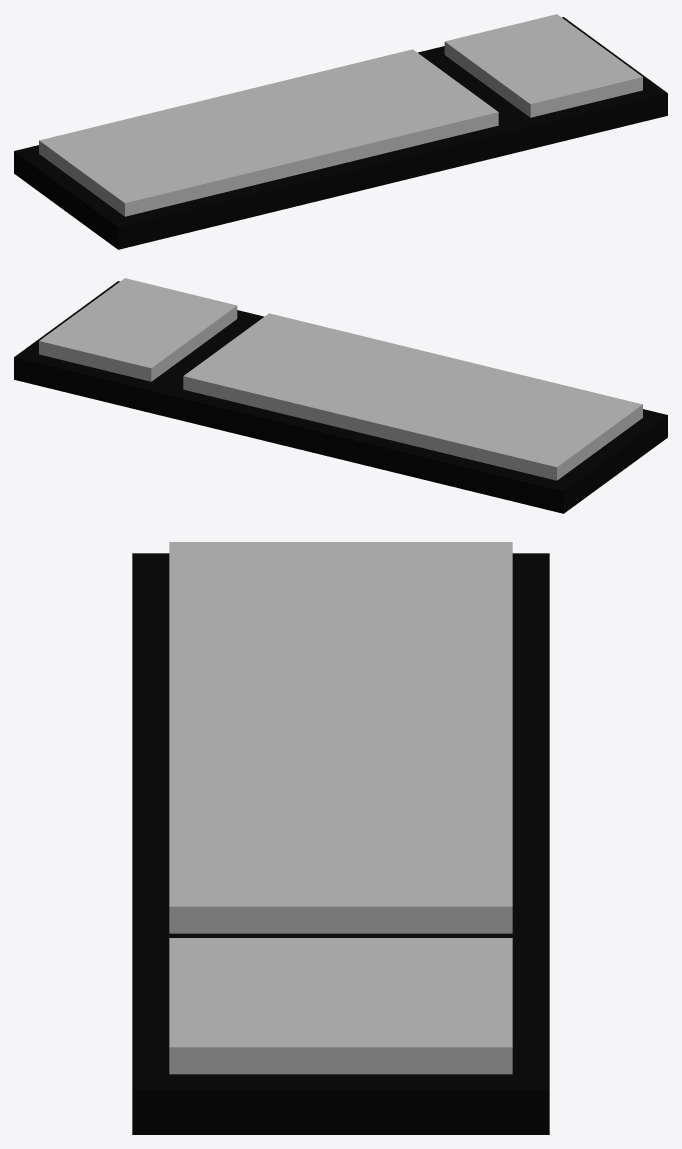
Rendered from Itr_Obj_Keyboard_02.FBX.
The picture shows the model from 3 angles, top to bottom: view 1: azimuth 30°, elevation 25°; view 2: azimuth 150°, elevation 25°; view 3: azimuth 270°, elevation 25°; orthographic projection. The views are drawn at different scales.
Parts seen in each view (by area): view 1: Itr_Obj_Keyboard_02; view 2: Itr_Obj_Keyboard_02; view 3: Itr_Obj_Keyboard_02.
Part boxes in pixels (x1,y1,x2,y2): Itr_Obj_Keyboard_02: [14, 14, 667, 249]; Itr_Obj_Keyboard_02: [14, 278, 667, 513]; Itr_Obj_Keyboard_02: [132, 542, 549, 1134].
Size of the model in its own units: 29.34 by 1.83 by 9.64.
